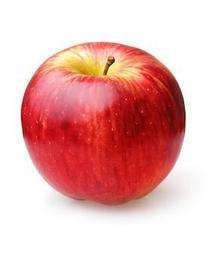apple: (20, 41, 185, 203)
